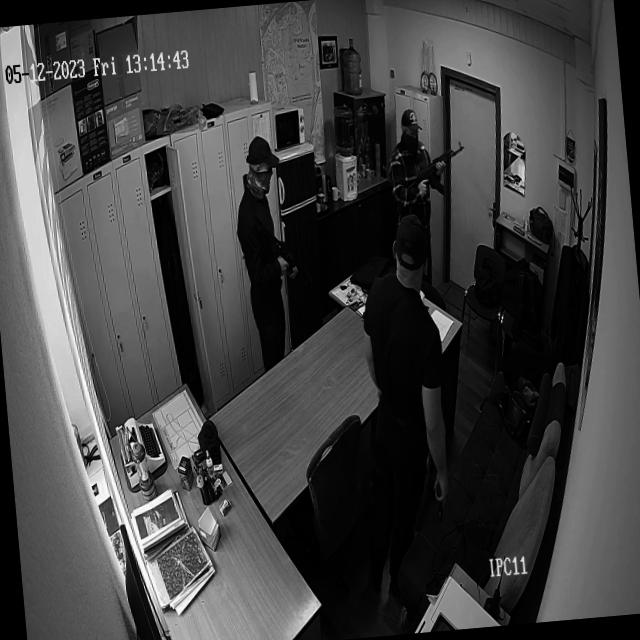gun: (416, 140, 468, 202), (274, 229, 301, 277), (432, 472, 451, 522)
person: (232, 136, 290, 359)
person with a gun: (353, 220, 452, 550), (232, 137, 292, 360), (386, 112, 434, 219)
